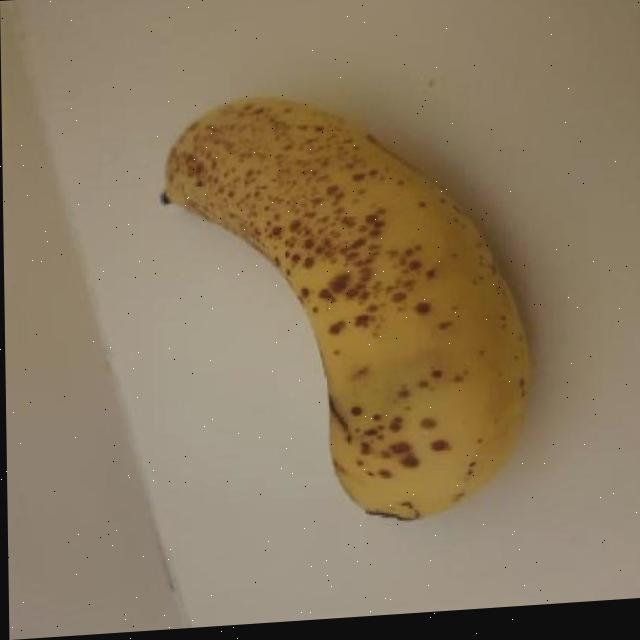banana: (151, 83, 531, 541)
